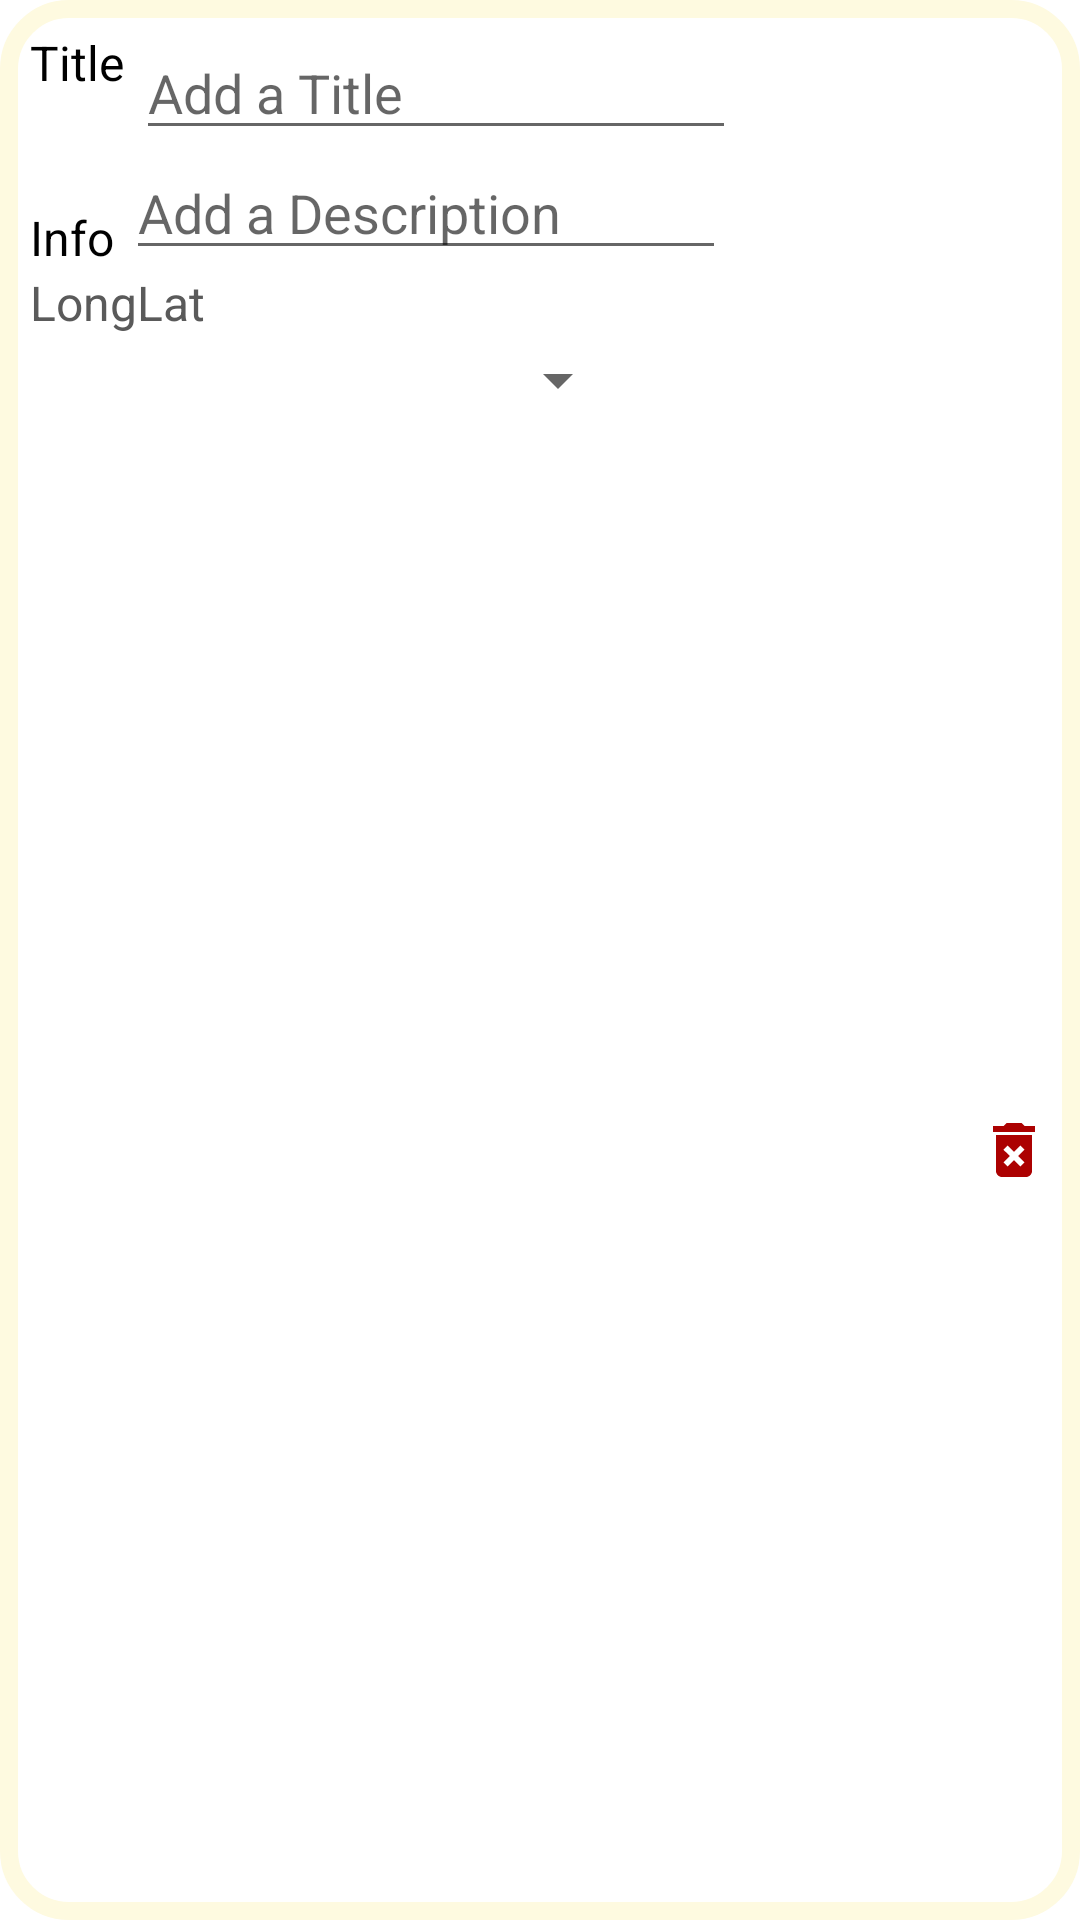

Point at icon controls on the screen. Image size 1080px×1920px, points as [x,y].
delete forever: [1014,1150]
